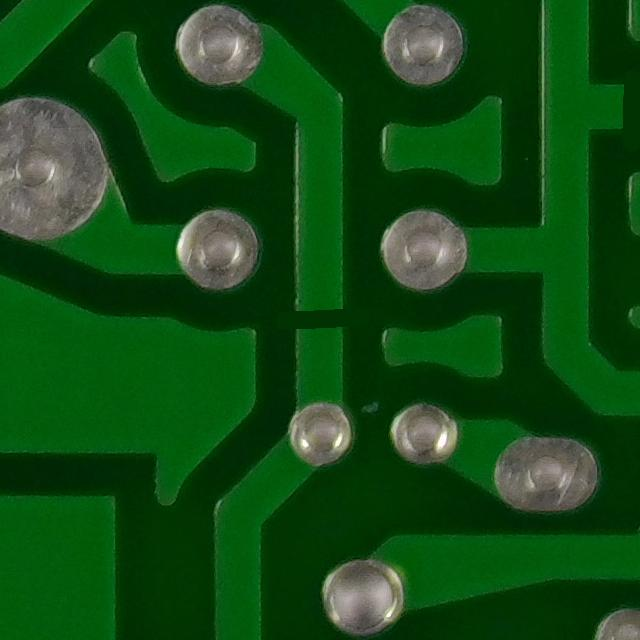open_circuit: (271, 291, 370, 349)
